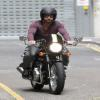motorcycles: (32, 37, 84, 95)
